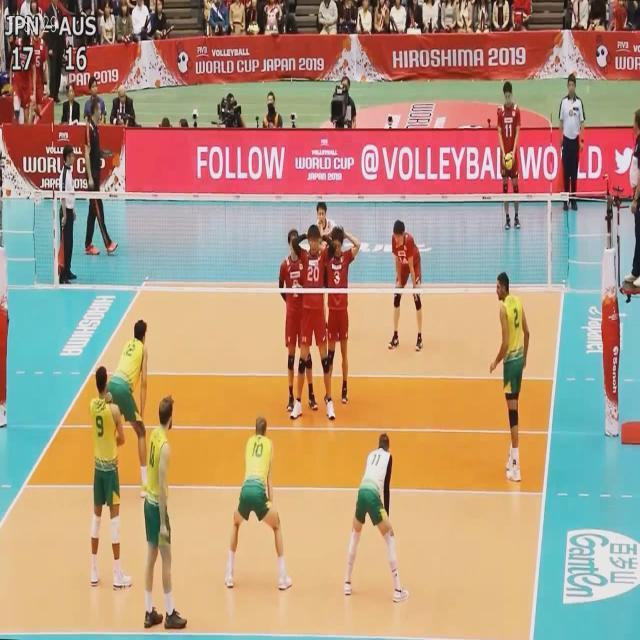volleyball: (503, 153, 513, 169)
